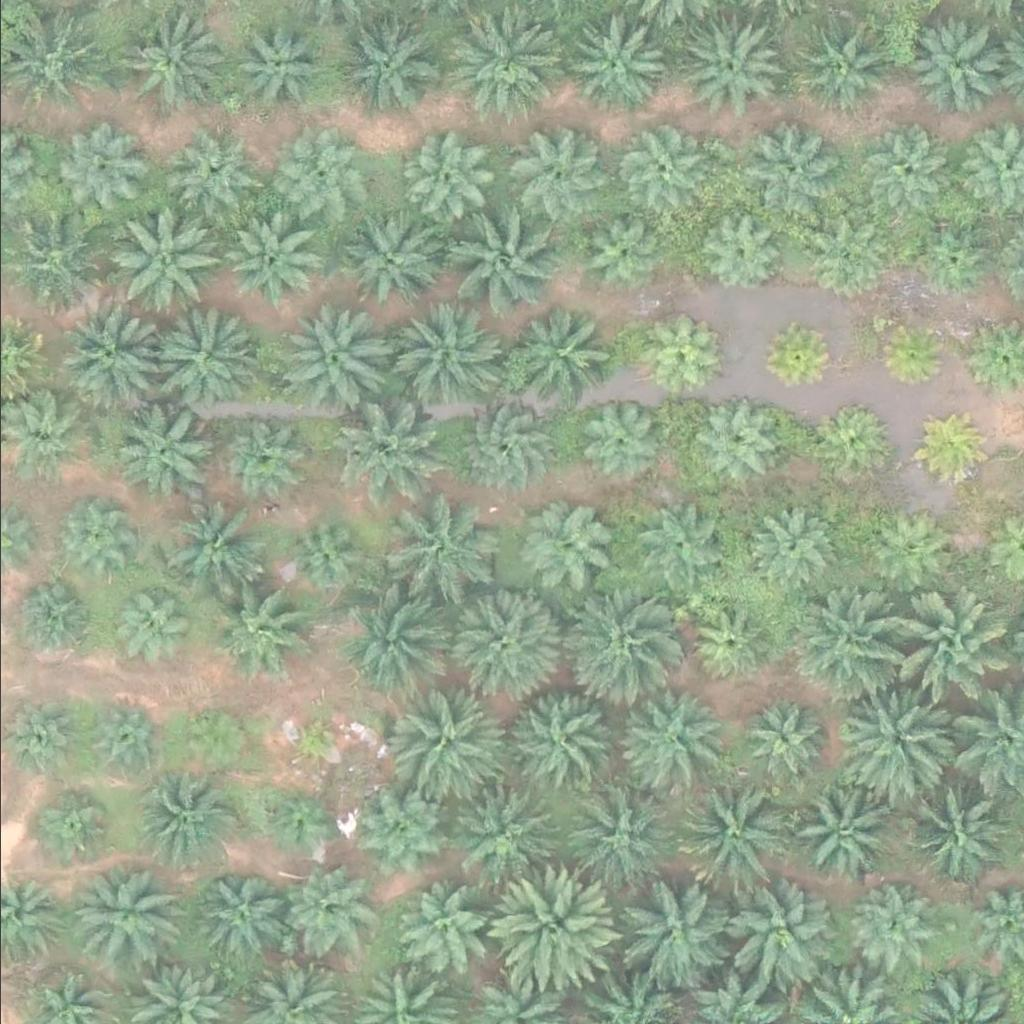Kelapa_Sawit: (488, 870, 614, 995), (622, 872, 736, 985), (279, 296, 393, 409), (893, 773, 1007, 886), (675, 774, 788, 887), (563, 778, 676, 891), (508, 685, 621, 798), (447, 582, 560, 695), (53, 301, 166, 414), (149, 293, 262, 406), (550, 5, 663, 118), (441, 6, 554, 119), (790, 589, 903, 702), (717, 879, 830, 992), (344, 582, 458, 694), (383, 299, 497, 411), (106, 201, 220, 313), (885, 595, 999, 707), (607, 678, 720, 790), (390, 683, 503, 795), (556, 580, 669, 692), (339, 393, 452, 505), (445, 197, 558, 309), (843, 685, 956, 797), (454, 782, 555, 882), (353, 784, 454, 884), (205, 576, 306, 676), (156, 490, 257, 590), (384, 490, 485, 590), (108, 400, 209, 500), (508, 303, 609, 403), (340, 206, 441, 306), (3, 208, 104, 308), (503, 127, 604, 227), (683, 16, 784, 116), (110, 10, 211, 110), (790, 785, 891, 885), (908, 17, 1009, 117), (791, 16, 892, 116), (739, 123, 840, 223), (139, 775, 240, 875), (75, 867, 175, 967), (519, 497, 619, 597), (451, 395, 551, 495), (335, 17, 436, 116), (279, 864, 367, 952), (682, 597, 770, 685), (280, 511, 368, 599), (689, 392, 777, 480), (220, 218, 308, 306), (52, 120, 140, 208), (617, 118, 705, 206), (909, 214, 997, 302), (791, 214, 879, 302), (737, 697, 825, 785), (858, 505, 946, 593), (861, 125, 949, 213), (191, 867, 280, 954), (631, 497, 720, 584), (399, 882, 487, 969), (77, 699, 165, 786), (573, 394, 661, 481), (211, 416, 299, 503), (693, 210, 781, 297), (569, 207, 657, 294), (174, 121, 262, 208), (286, 130, 374, 217), (401, 133, 489, 220), (235, 24, 323, 111), (843, 888, 931, 975), (749, 504, 837, 591), (815, 399, 891, 474), (106, 582, 182, 657), (18, 584, 94, 659), (258, 783, 334, 858), (171, 702, 247, 777), (635, 316, 711, 391), (762, 321, 838, 396), (911, 414, 987, 489), (37, 790, 112, 865), (52, 502, 127, 577), (873, 316, 948, 391), (283, 709, 346, 771)
